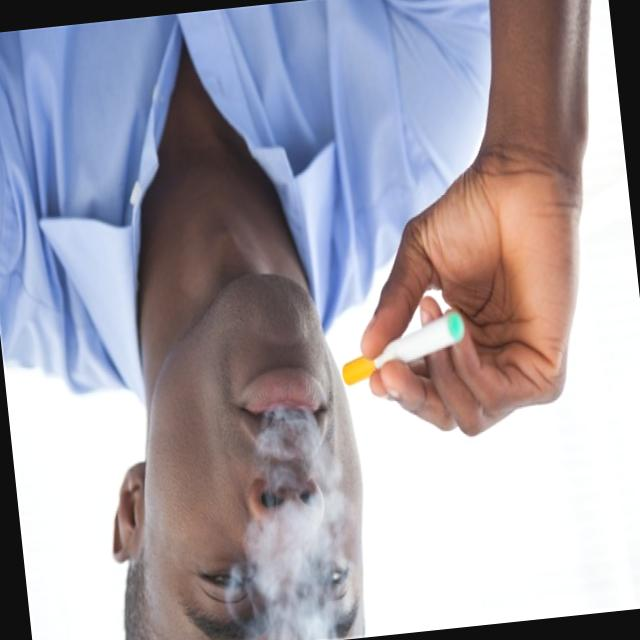smoke: (331, 298, 472, 391)
